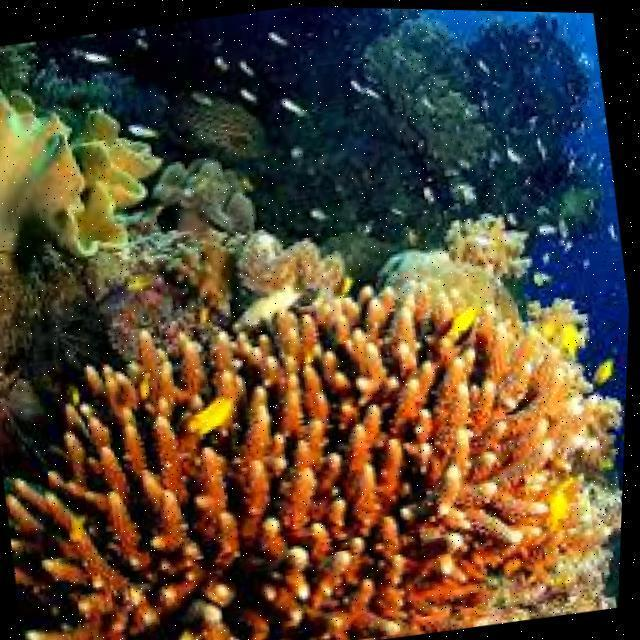Healthy Coral: (0, 224, 606, 640), (0, 66, 175, 271)
